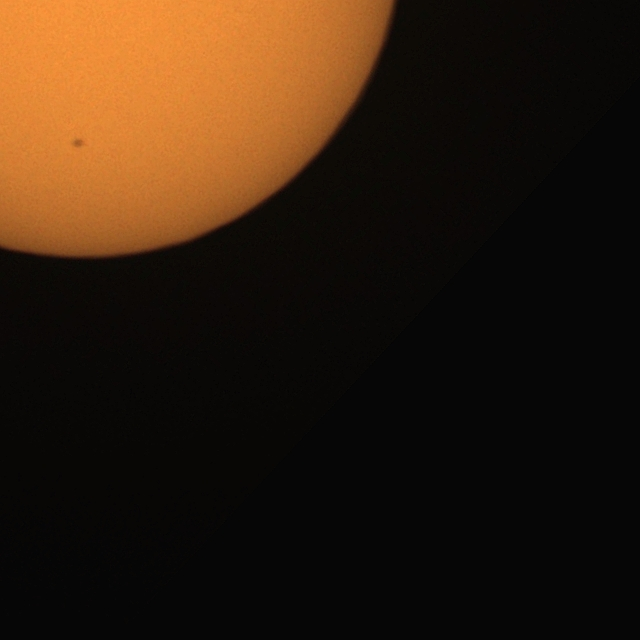sunspot: (70, 137, 87, 150)
